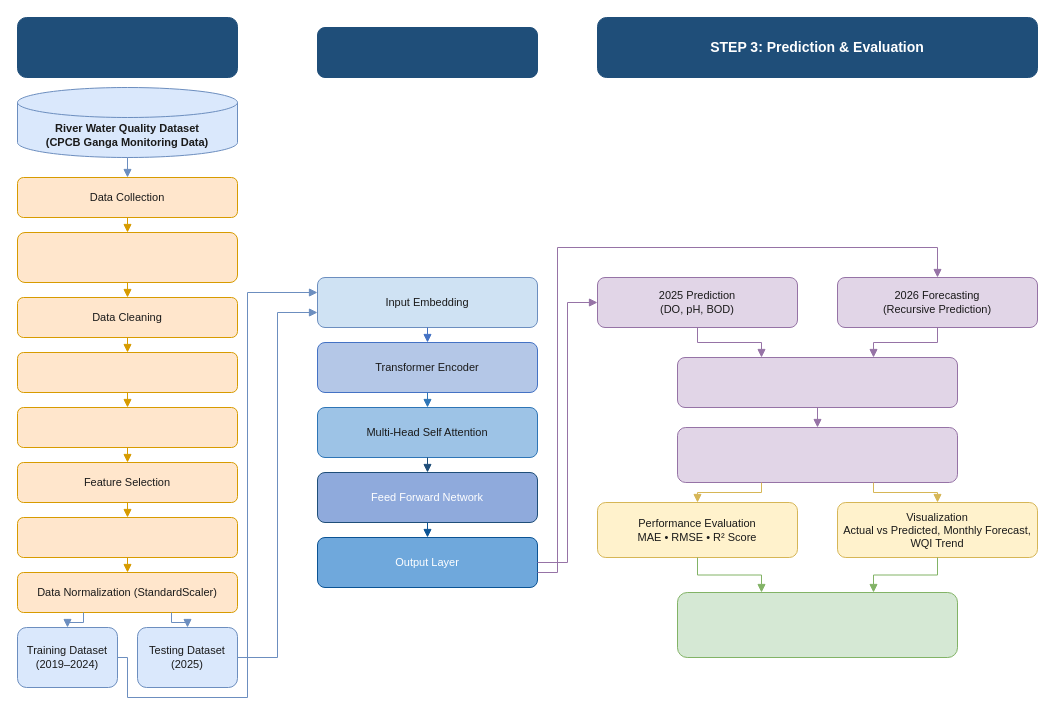
The diagram is 1055 pixels wide and 723 high, and some of its shapes have lost their labels. Here are the shapes that lost their labels. From the top down, the centre of each, then its label:
At pixel 127 47: "STEP 1: Data Preparation".
At pixel 427 52: "STEP 2: iTransformer Prediction Model".
At pixel 127 257: "Parameter Extraction • DO • pH • BOD".
At pixel 127 372: "Handle Missing Values".
At pixel 817 382: "WQI Calculation".
At pixel 127 427: "Handle BDL Values".
At pixel 817 454: "Water Quality Classification Excellent | Good | Medium | Poor".
At pixel 127 537: "Sliding Window (12 Months)".
At pixel 817 625: "Final Output Predicted DO, pH, BOD, WQI, Category — 2026 Report".
